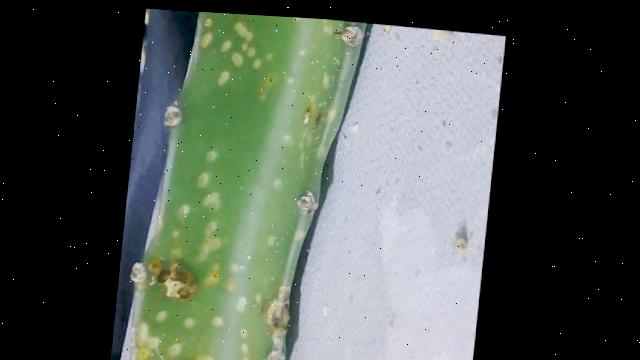stemcanker: (193, 18, 280, 88), (196, 190, 226, 218), (202, 144, 227, 169), (191, 168, 217, 192), (196, 218, 227, 236), (236, 290, 254, 321), (230, 341, 259, 360), (275, 128, 300, 150), (173, 198, 192, 226), (165, 338, 189, 360), (270, 173, 292, 196), (150, 305, 172, 326), (262, 231, 283, 252), (316, 72, 337, 93), (207, 311, 228, 331), (181, 314, 201, 333), (235, 324, 255, 339)
